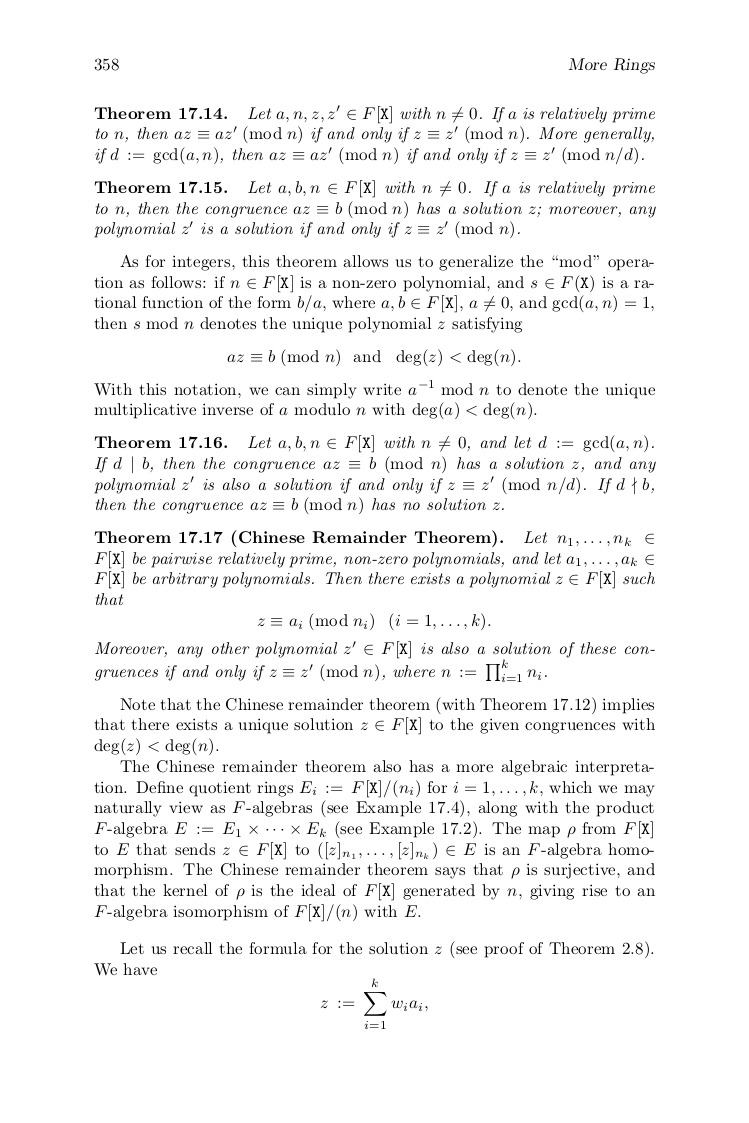formula: (227, 348, 520, 367), (320, 978, 427, 1028), (257, 612, 490, 631)
